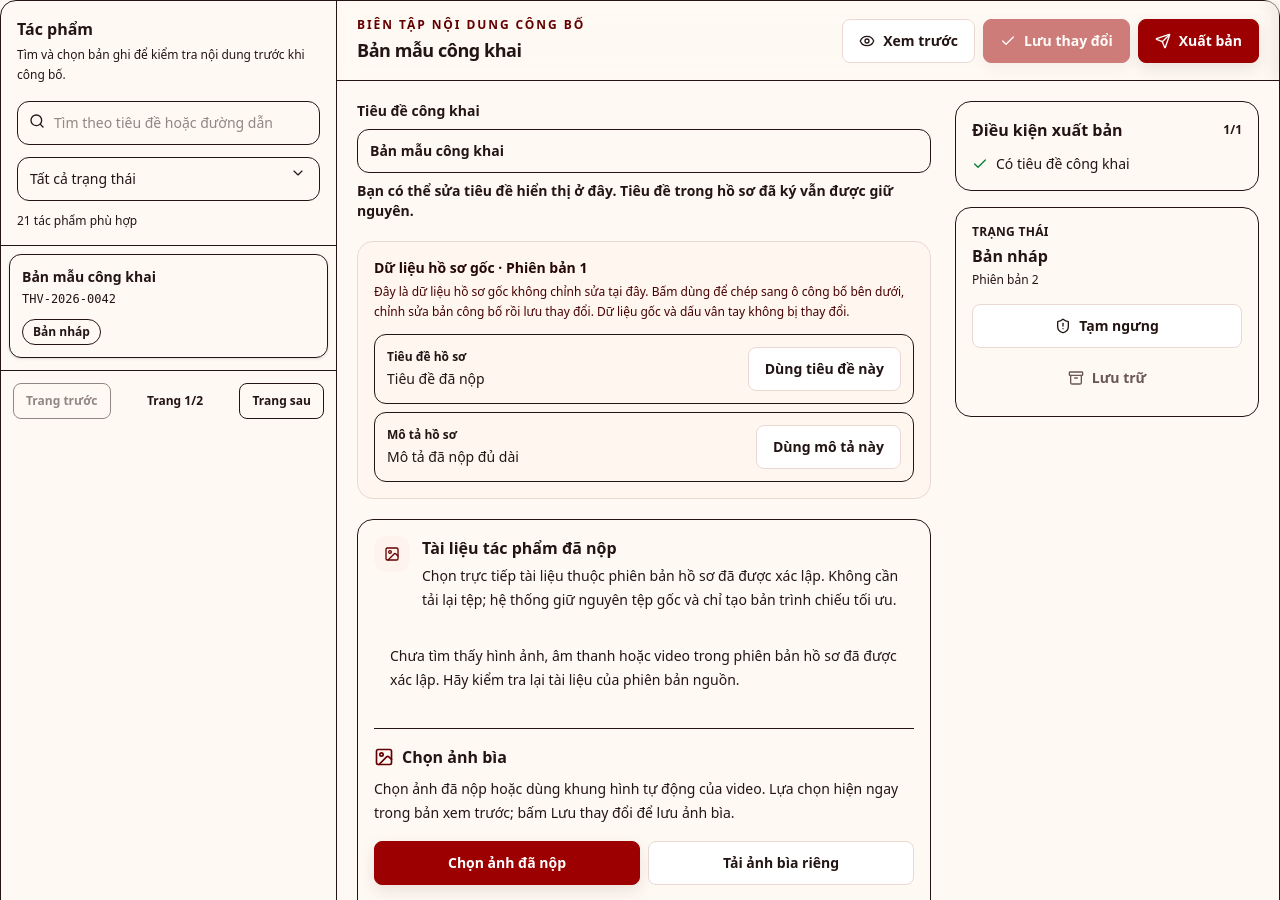
Test: PublicWorkEditor › opens the first work and lets administrators browse all pages
The width and height of the screenshot is (1280, 900).
Expected: the field labelled "Tiêu đề công khai" is shown, x1=357 y1=129 x2=931 y2=173
Click the button "Trang sau". click: (282, 401)
box: x1=240 y1=383 x2=324 y2=419
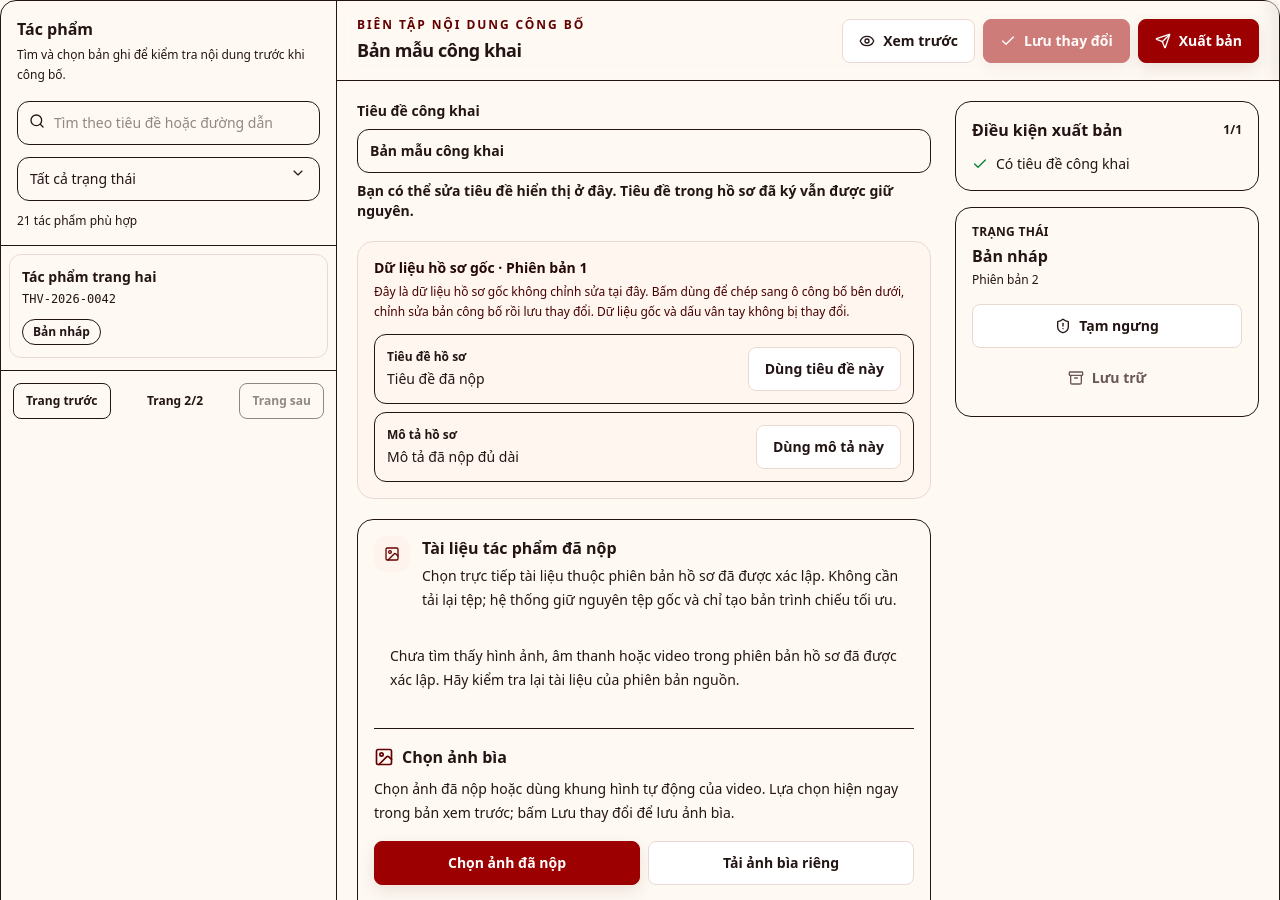
Result: the button "Tác phẩm trang hai THV-2026-0042 Bản nháp" is shown at x1=9 y1=254 x2=328 y2=358
